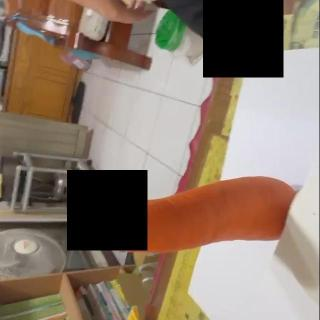carrot: (100, 174, 298, 254)
